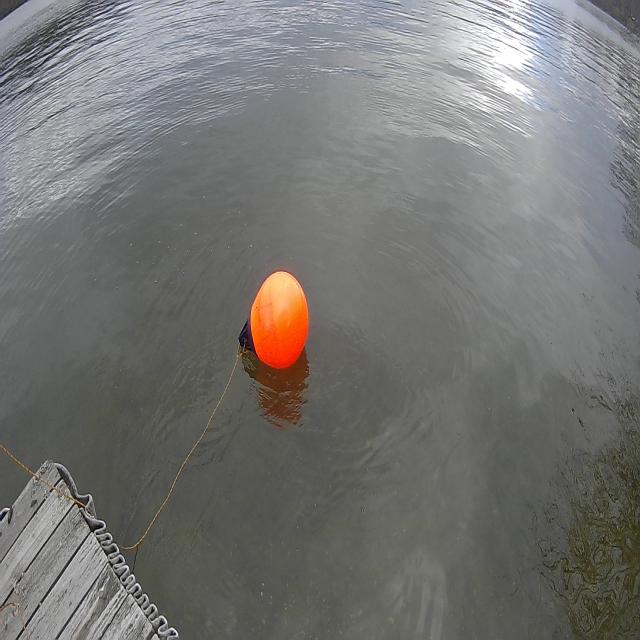Buoy: (234, 252, 320, 384)
